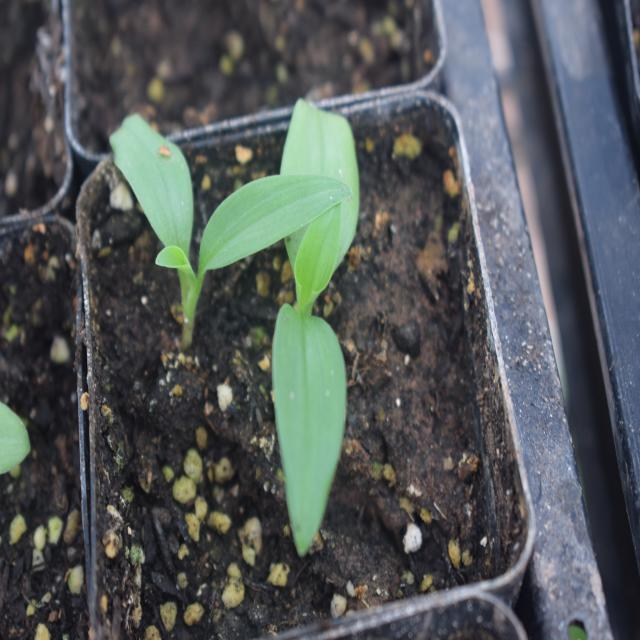Common Dayflower: (247, 81, 376, 561), (112, 106, 252, 376)
